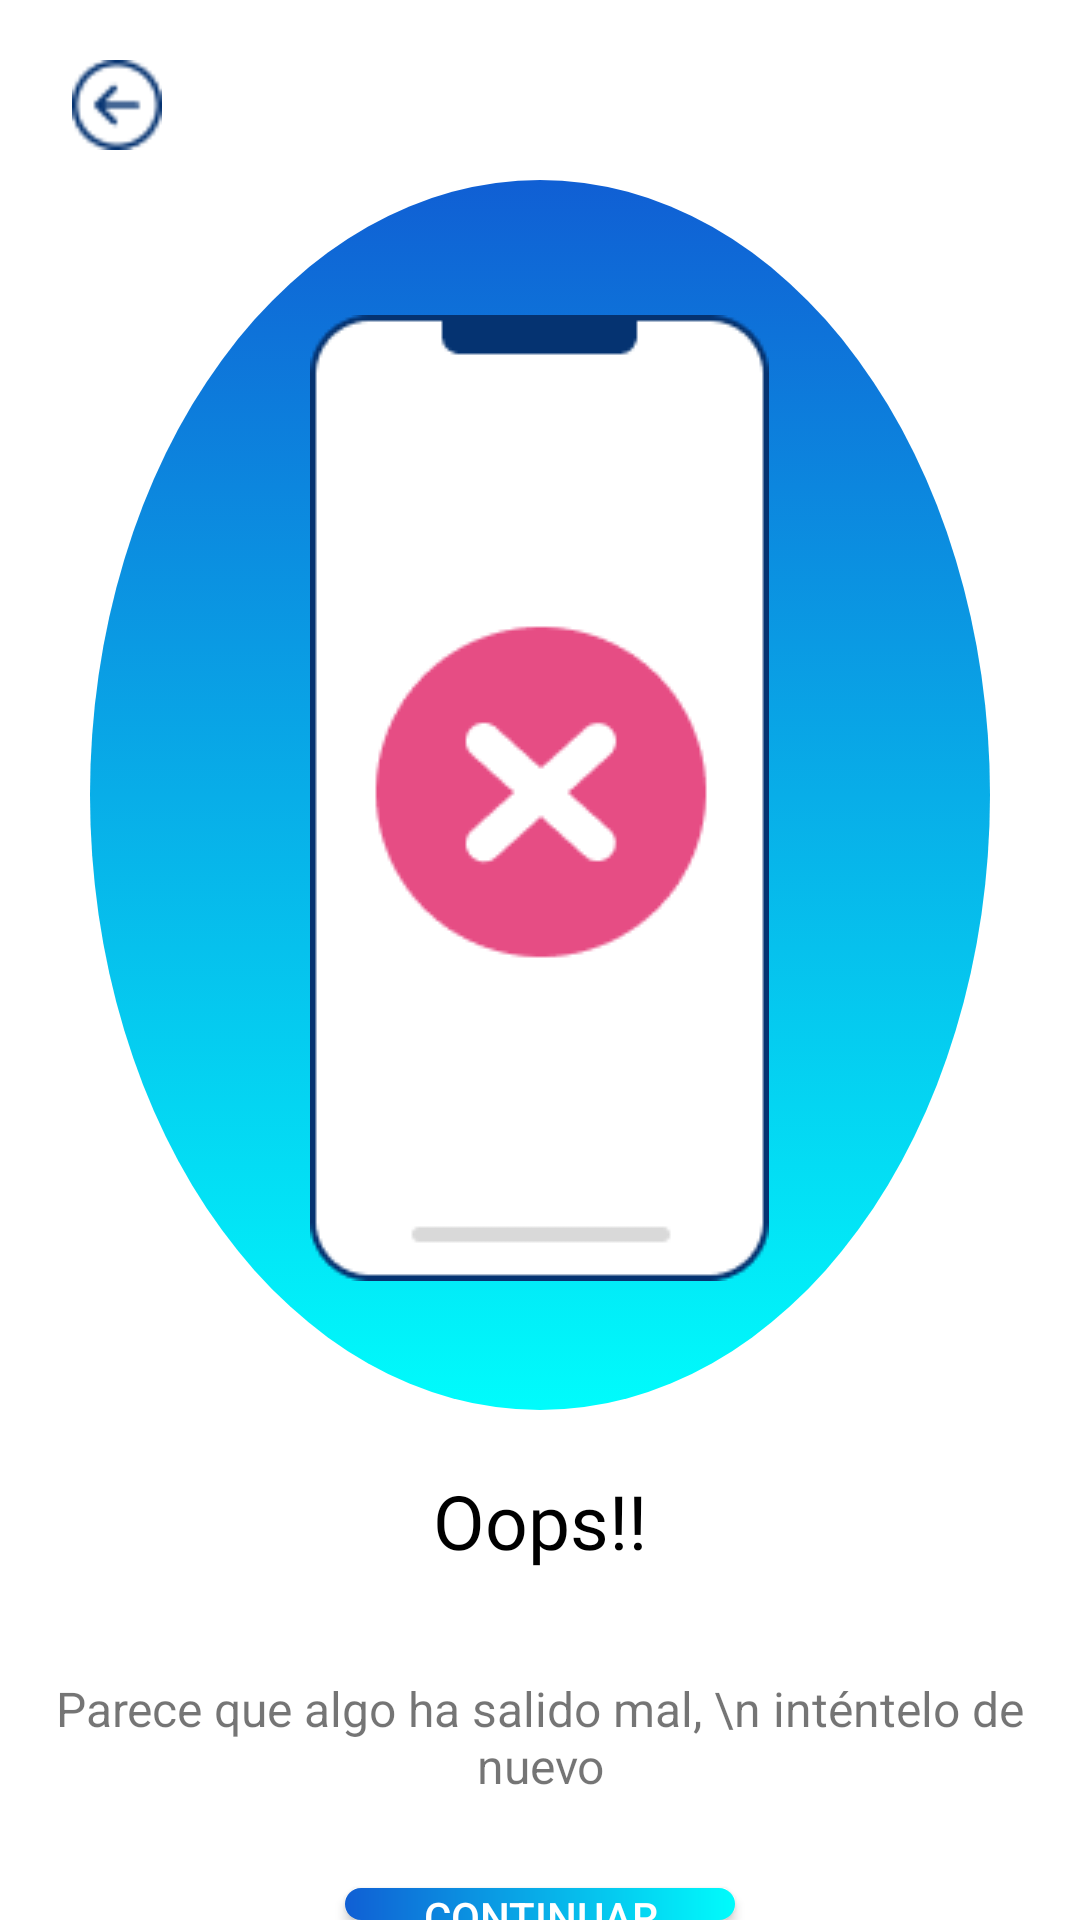

Icons on this 1080*1920 Android screen, each with its box as (x1, y1, x2, y2):
Regresar: (72, 60, 162, 150)
